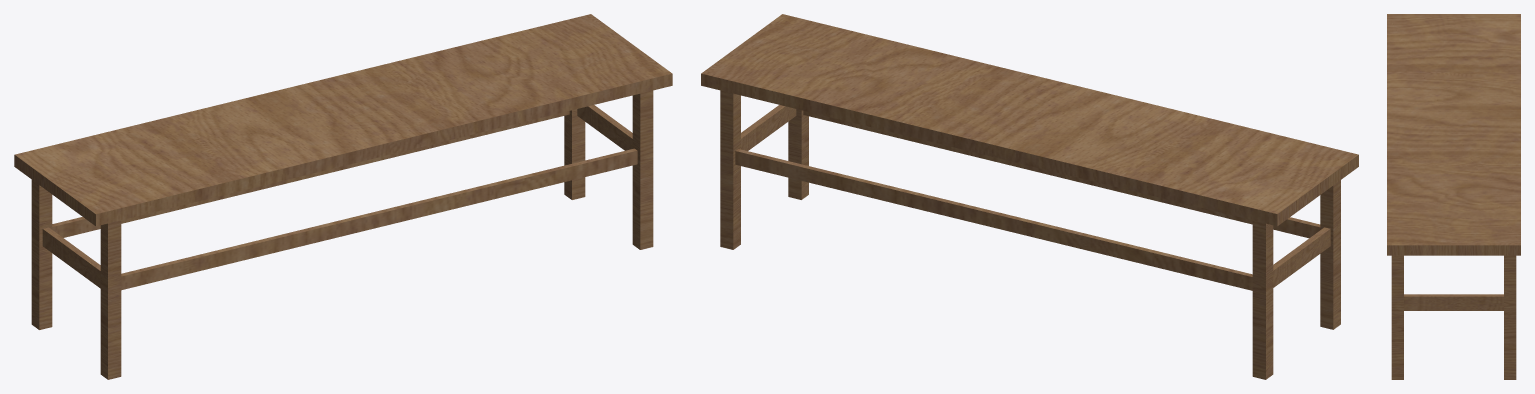
Rendered from Bench.glb.
3 renders of one model, left to right at view 1: azimuth 30°, elevation 25°; view 2: azimuth 150°, elevation 25°; view 3: azimuth 270°, elevation 25°, orthographic. The views are drawn at different scales.
Visible parts, largest first — view 1: Bench; view 2: Bench; view 3: Bench.
Boxes of the visible parts, x1,y1,x2,y2 form: Bench: [14, 14, 672, 379]; Bench: [701, 14, 1358, 379]; Bench: [1387, 14, 1520, 379].
Size of the model in its own units: 43.94 by 12.49 by 10.75.
Materials: 1 (1 with a texture image).
